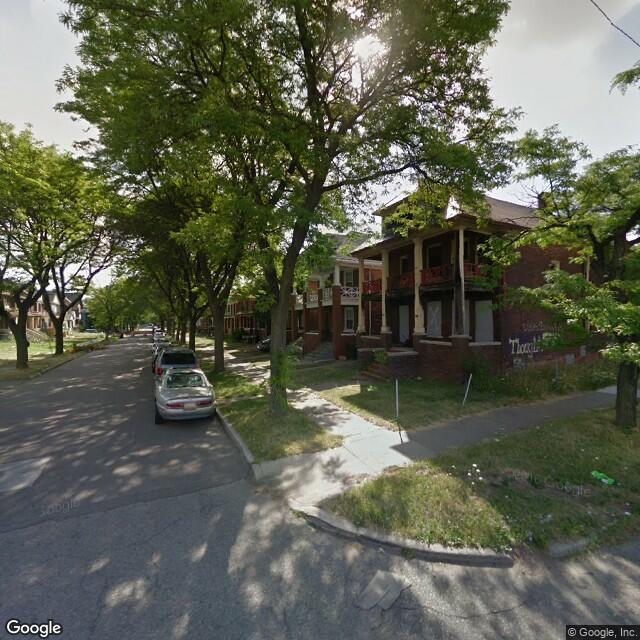litter: (589, 465, 618, 487), (376, 546, 386, 555)
